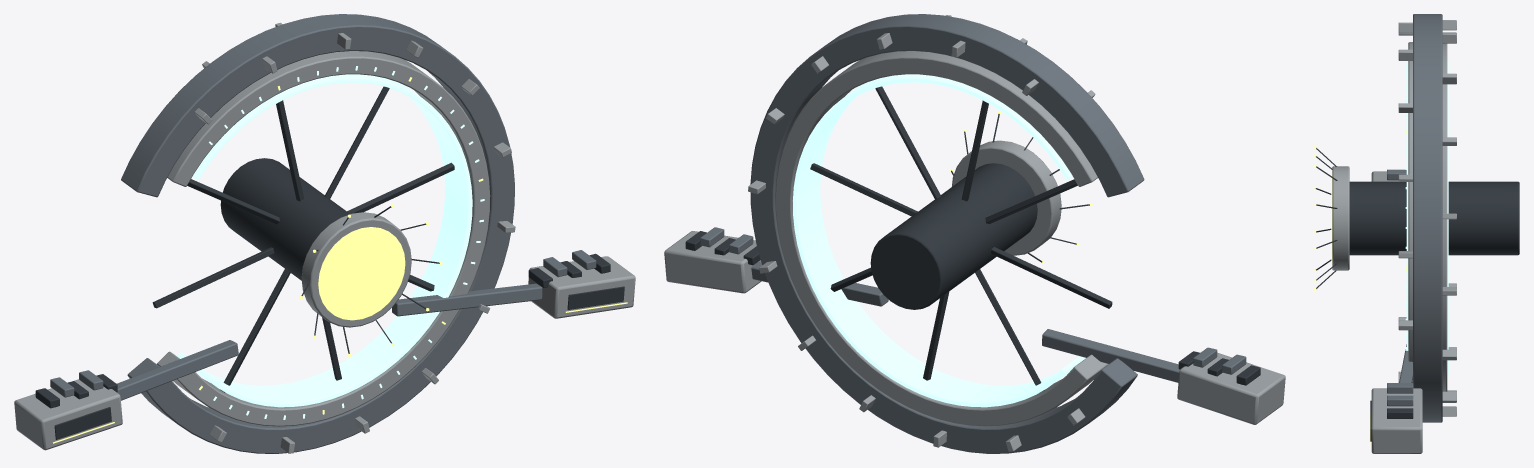
Rendered from QW_HarbourSector_LOD0.fbx.
3 renders of one model, left to right at view 1: azimuth 30°, elevation 25°; view 2: azimuth 150°, elevation 25°; view 3: azimuth 270°, elevation 25°, orthographic. The views are drawn at different scales.
Visible parts, largest first — view 1: QW_HarbourSector_LOD0; view 2: QW_HarbourSector_LOD0; view 3: QW_HarbourSector_LOD0.
Part boxes in pixels (left/top/right/bottom): QW_HarbourSector_LOD0: left=14, top=14, right=635, bottom=453; QW_HarbourSector_LOD0: left=664, top=14, right=1285, bottom=453; QW_HarbourSector_LOD0: left=1314, top=14, right=1519, bottom=453.
Size of the model in its own units: 59.59 by 40 by 20.11.
